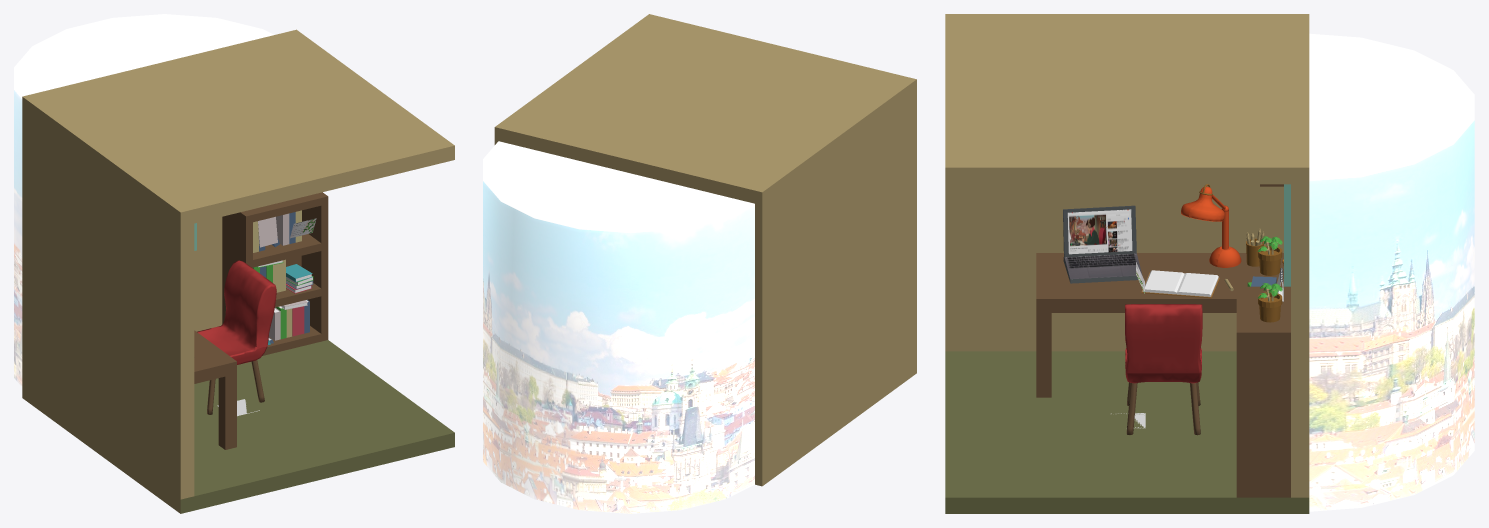
The picture shows the model from 3 angles, left to right: view 1: azimuth 30°, elevation 25°; view 2: azimuth 150°, elevation 25°; view 3: azimuth 270°, elevation 25°; orthographic projection. The views are drawn at different scales.
Visible parts, largest first — view 1: 3DSMeshMatrix.105, 3DSMeshMatrix.056, 3DSMeshMatrix.003, 3DSMeshMatrix.111, 3DSMeshMatrix.109, 3DSMeshMatrix.110, 3DSMeshMatrix.057, 3DSMeshMatrix.041; view 2: 3DSMeshMatrix.105, 3DSMeshMatrix.003; view 3: 3DSMeshMatrix.105, 3DSMeshMatrix.003, 3DSMeshMatrix.056, 3DSMeshMatrix.111, 3DSMeshMatrix.110, 3DSMeshMatrix.109, 3DSMeshMatrix.093, 3DSMeshMatrix.092, 3DSMeshMatrix.091, 3DSMeshMatrix.104, 3DSMeshMatrix.051, 3DSMeshMatrix.057 (+3 smaller).
Boxes of the visible parts, bbox=[...] form: 3DSMeshMatrix.105: bbox=[22, 29, 454, 513]; 3DSMeshMatrix.056: bbox=[180, 340, 454, 513]; 3DSMeshMatrix.003: bbox=[14, 14, 273, 386]; 3DSMeshMatrix.111: bbox=[222, 192, 328, 355]; 3DSMeshMatrix.109: bbox=[197, 260, 276, 364]; 3DSMeshMatrix.110: bbox=[194, 330, 236, 449]; 3DSMeshMatrix.057: bbox=[207, 360, 264, 414]; 3DSMeshMatrix.041: bbox=[257, 216, 277, 247]; 3DSMeshMatrix.105: bbox=[494, 14, 916, 486]; 3DSMeshMatrix.003: bbox=[483, 141, 754, 513]; 3DSMeshMatrix.105: bbox=[945, 14, 1309, 497]; 3DSMeshMatrix.003: bbox=[1309, 33, 1474, 511]; 3DSMeshMatrix.056: bbox=[945, 351, 1309, 513]; 3DSMeshMatrix.111: bbox=[1236, 286, 1290, 497]; 3DSMeshMatrix.110: bbox=[1036, 253, 1283, 397]; 3DSMeshMatrix.109: bbox=[1125, 304, 1202, 383]; 3DSMeshMatrix.093: bbox=[1067, 209, 1132, 254]; 3DSMeshMatrix.092: bbox=[1064, 253, 1142, 279]; 3DSMeshMatrix.091: bbox=[1142, 270, 1218, 296]; 3DSMeshMatrix.104: bbox=[1063, 205, 1138, 283]; 3DSMeshMatrix.051: bbox=[1181, 186, 1224, 221]; 3DSMeshMatrix.057: bbox=[1126, 382, 1200, 435].
Size of the model in its own units: 20 by 22 by 29.08.
Materials: 26 (4 with a texture image).
